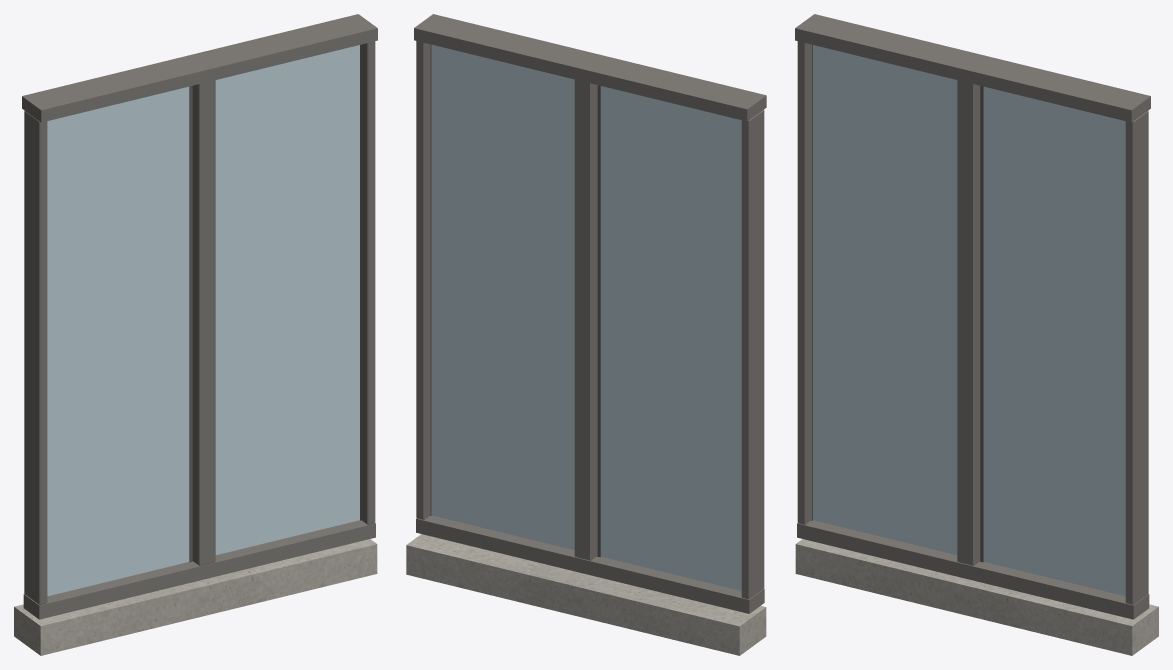
The model's file is wall_glass.glb.
The picture shows the model from 3 angles, left to right: view 1: azimuth 30°, elevation 25°; view 2: azimuth 150°, elevation 25°; view 3: azimuth 330°, elevation 25°; orthographic projection.
Visible parts, largest first — view 1: wall_glass_glass, wall_glass_metal, wall_glass_concrete, wall_glass_dark; view 2: wall_glass_glass, wall_glass_metal, wall_glass_concrete, wall_glass_dark; view 3: wall_glass_glass, wall_glass_metal, wall_glass_concrete, wall_glass_dark.
Part boxes in pixels (x1,y1,x2,y2): wall_glass_glass: (47,45,359,596); wall_glass_metal: (22,14,377,619); wall_glass_concrete: (14,539,377,655); wall_glass_dark: (189,44,361,562); wall_glass_glass: (431,44,741,590); wall_glass_metal: (414,14,766,613); wall_glass_concrete: (406,534,766,655); wall_glass_dark: (430,44,600,557); wall_glass_glass: (813,45,1125,596); wall_glass_metal: (795,14,1150,619); wall_glass_concrete: (795,539,1158,655); wall_glass_dark: (811,44,983,562).
Size of the model in its own units: 2 by 3.1 by 0.28.
4 materials, 1 textured.
